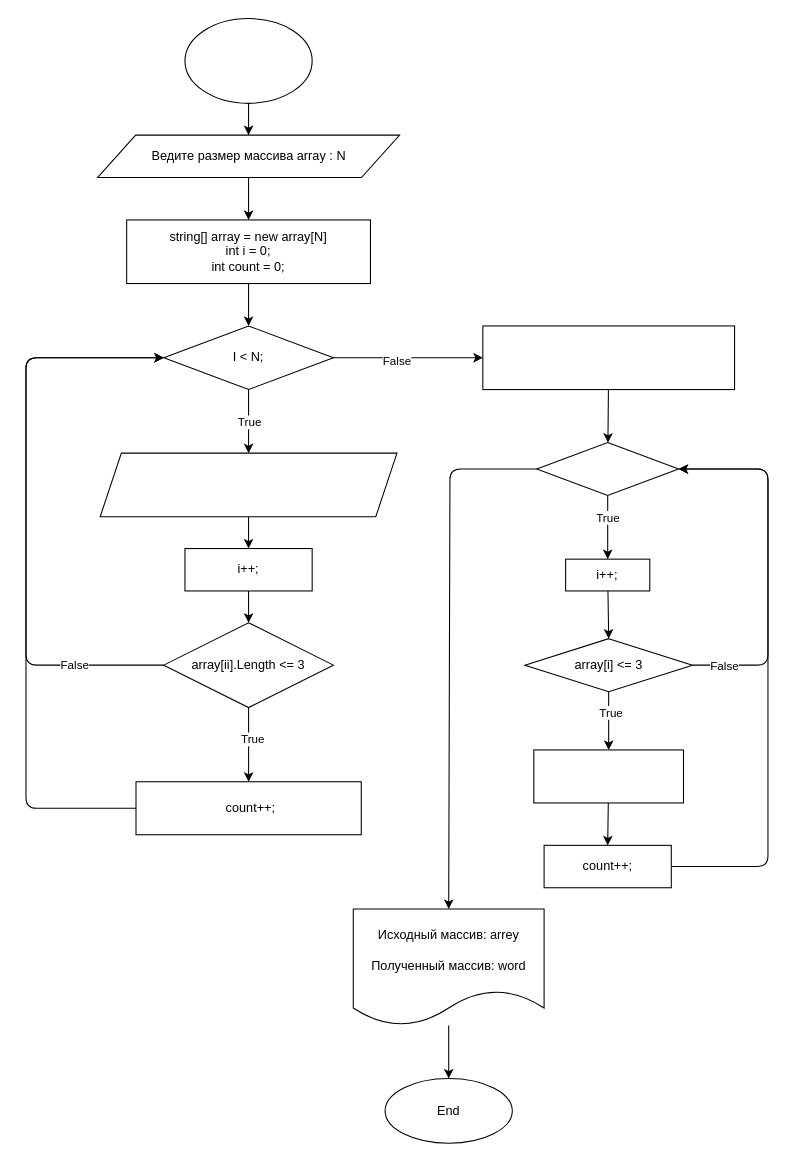
The diagram is 795 pixels wide and 1162 high, and some of its shapes have lost their labels. Each missing label, with the centre of its shape:
i < N: [607,468]
Start: [248,60]
string[] word = new string[count]; count = 0; int i = 0;: [608,357]
word[count] = array[i]: [608,776]
Введите элемент массива array: array[i]: [248,484]
